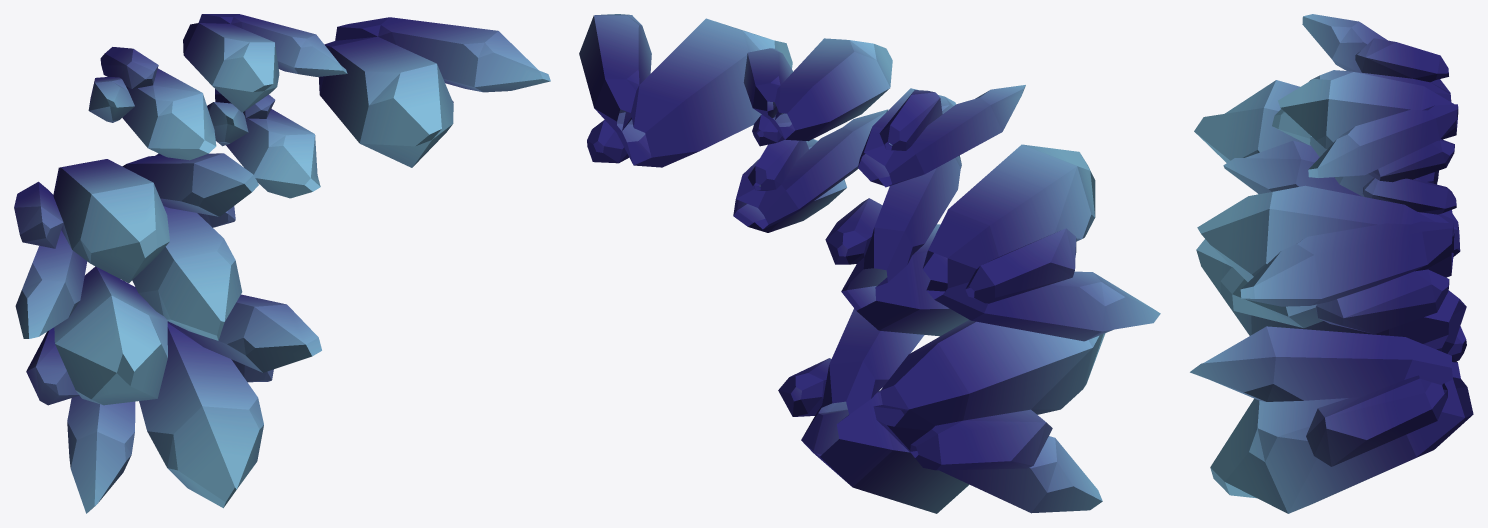
File: Bunch_of_crystals_01.fbx
3 views of the same model, side by side, from view 1: azimuth 30°, elevation 25°; view 2: azimuth 150°, elevation 25°; view 3: azimuth 270°, elevation 25° (orthographic). The views are drawn at different scales.
Parts seen in each view (by area): view 1: Bunch_of_crystals_01; view 2: Bunch_of_crystals_01; view 3: Bunch_of_crystals_01.
Boxes of the visible parts, x1,y1,x2,y2 form: Bunch_of_crystals_01: [14, 14, 550, 513]; Bunch_of_crystals_01: [579, 14, 1160, 513]; Bunch_of_crystals_01: [1190, 14, 1473, 513].
Size of the model in its own units: 107 by 83.6 by 46.56.
